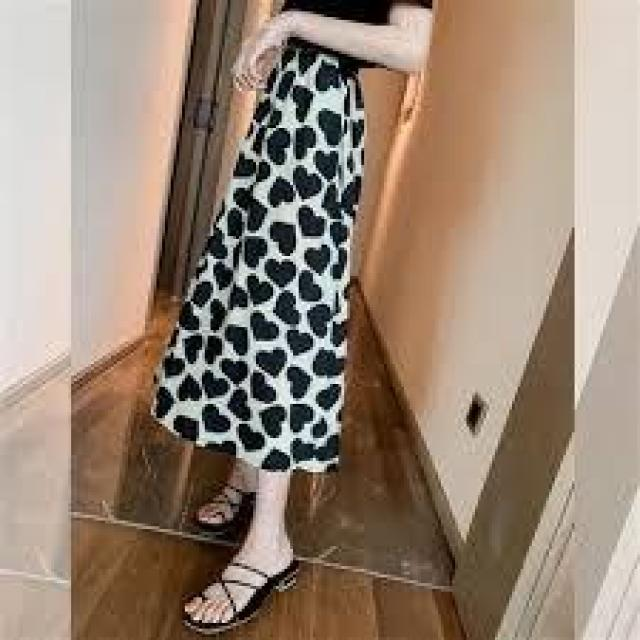skirt: (146, 42, 388, 480)
